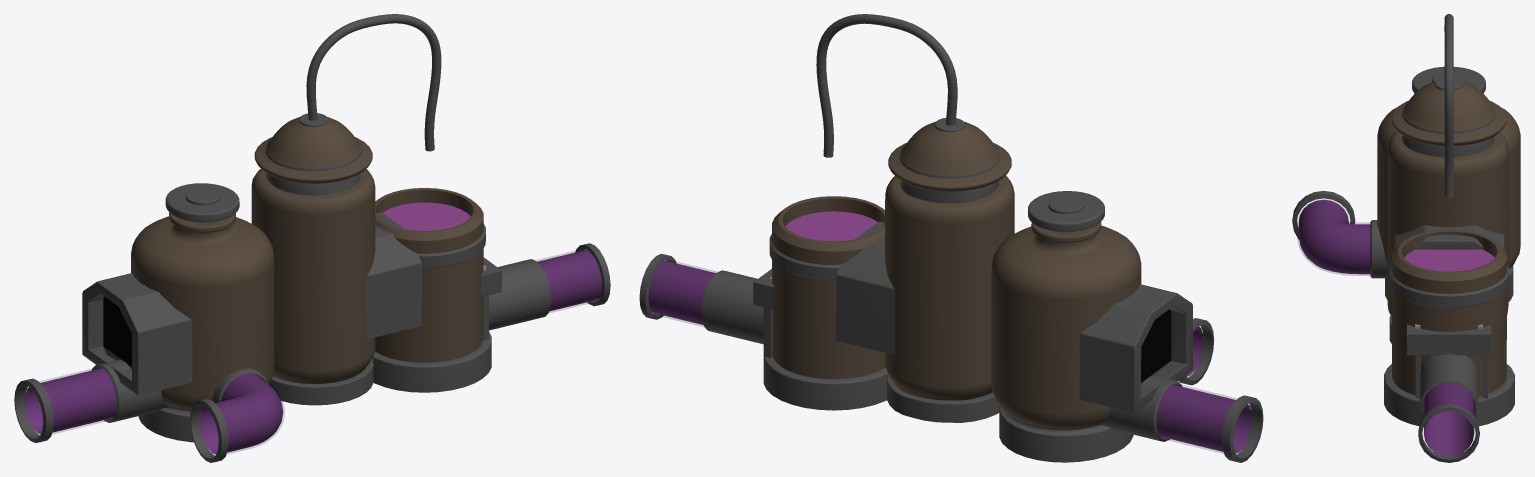
File: Distiller.fbx
The picture shows the model from 3 angles, left to right: view 1: azimuth 30°, elevation 25°; view 2: azimuth 150°, elevation 25°; view 3: azimuth 270°, elevation 25°; orthographic projection. The views are drawn at different scales.
Parts seen in each view (by area): view 1: _Machine_Distiller, Out_Liquid, In_Solid, In_Liquid_S, In_Liquid_T, Out_Solid, Pump; view 2: _Machine_Distiller, Out_Liquid, In_Solid, In_Liquid_S, Out_Solid, Pump, In_Liquid_T; view 3: _Machine_Distiller, Out_Liquid, In_Liquid_T, Out_Solid, Pump.
Part boxes in pixels (bbox=[...]): _Machine_Distiller: bbox=[131, 14, 441, 442]; Out_Liquid: bbox=[372, 188, 610, 392]; In_Solid: bbox=[82, 273, 192, 395]; In_Liquid_S: bbox=[14, 359, 170, 442]; In_Liquid_T: bbox=[189, 368, 284, 462]; Out_Solid: bbox=[366, 212, 501, 340]; Pump: bbox=[165, 183, 239, 222]; _Machine_Distiller: bbox=[816, 14, 1141, 462]; Out_Liquid: bbox=[639, 196, 887, 410]; In_Solid: bbox=[1079, 284, 1193, 412]; In_Liquid_S: bbox=[1100, 375, 1263, 462]; Out_Solid: bbox=[753, 221, 895, 357]; Pump: bbox=[1028, 191, 1104, 232]; In_Liquid_T: bbox=[1178, 318, 1214, 385]; _Machine_Distiller: bbox=[1377, 14, 1520, 343]; Out_Liquid: bbox=[1384, 229, 1514, 462]; In_Liquid_T: bbox=[1292, 190, 1387, 278]; Out_Solid: bbox=[1394, 225, 1504, 399]; Pump: bbox=[1412, 66, 1485, 93].
Bounding box in the file's own units: 5.1 × 3.1 × 1.82.
